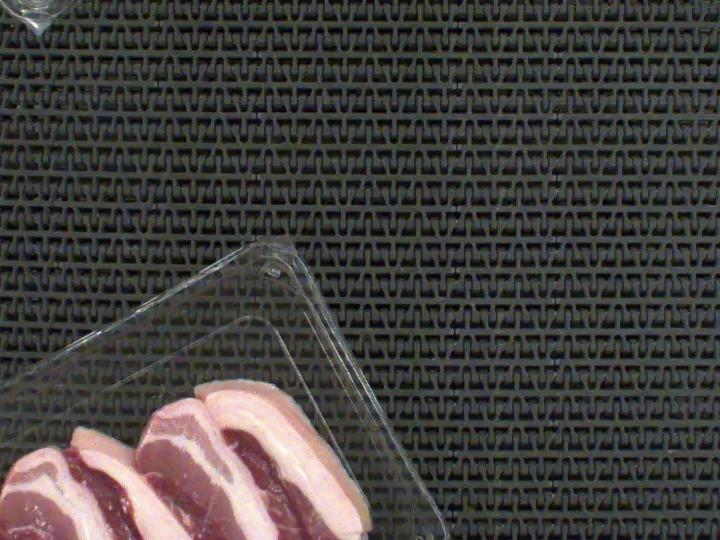wrinkle: (46, 483, 216, 540)
